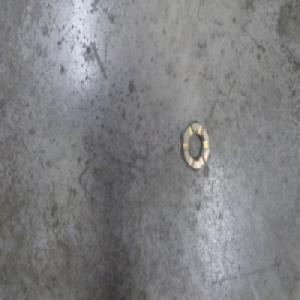Nut: (182, 118, 210, 173)
